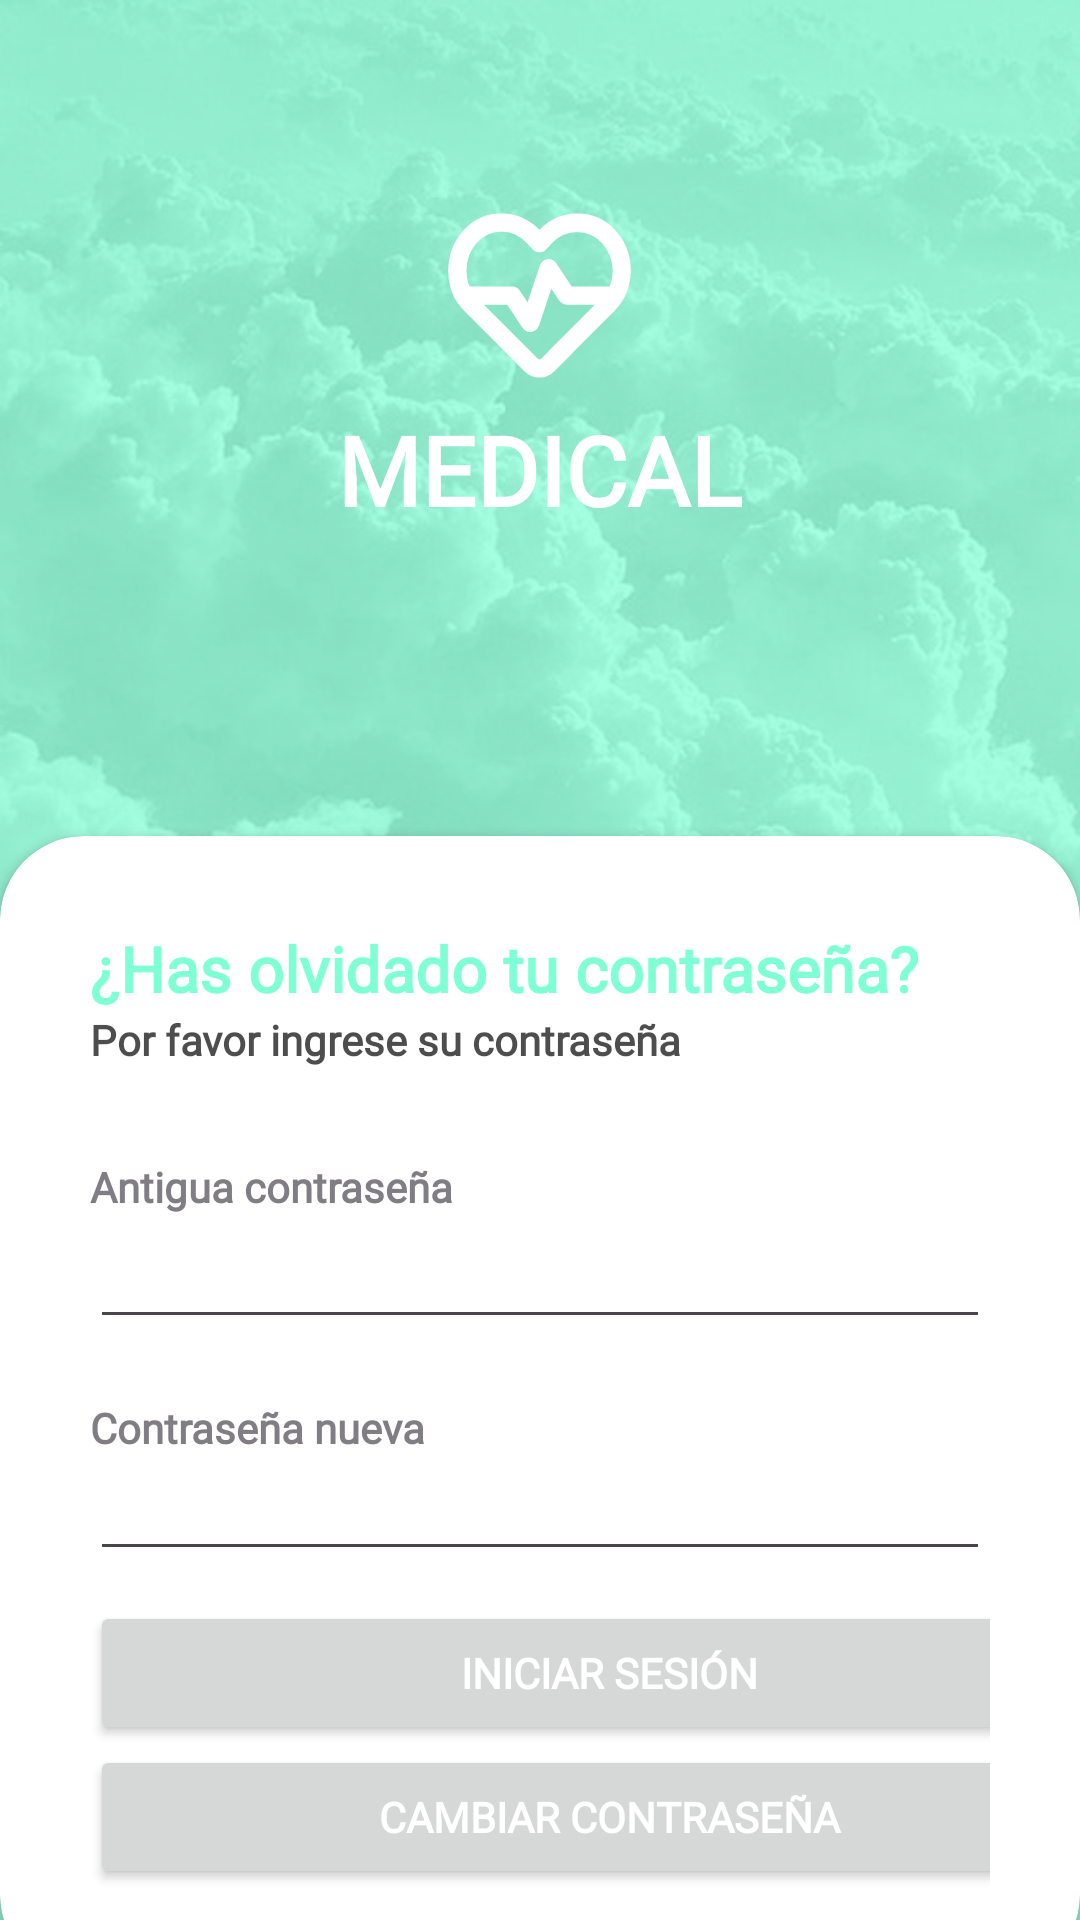

Icons on this 1080w x 1920h Android screen, each with the point to tap as point (x, y):
ecg heart: point (539, 295)
